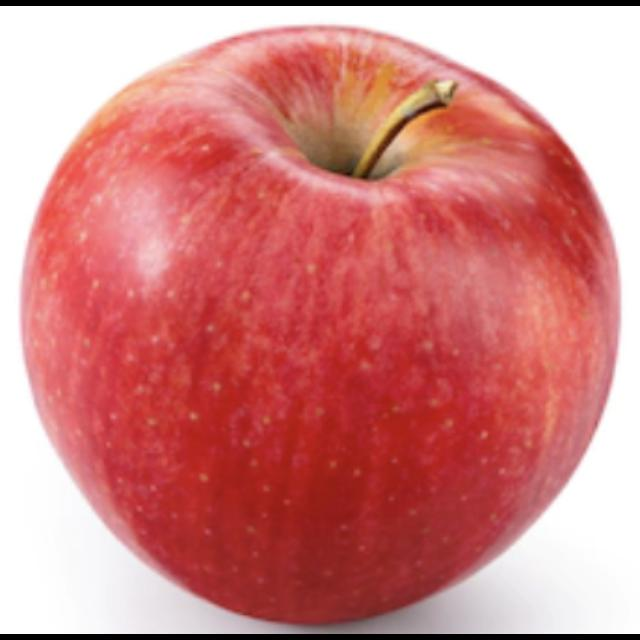Apel Segar: (17, 25, 623, 629)
